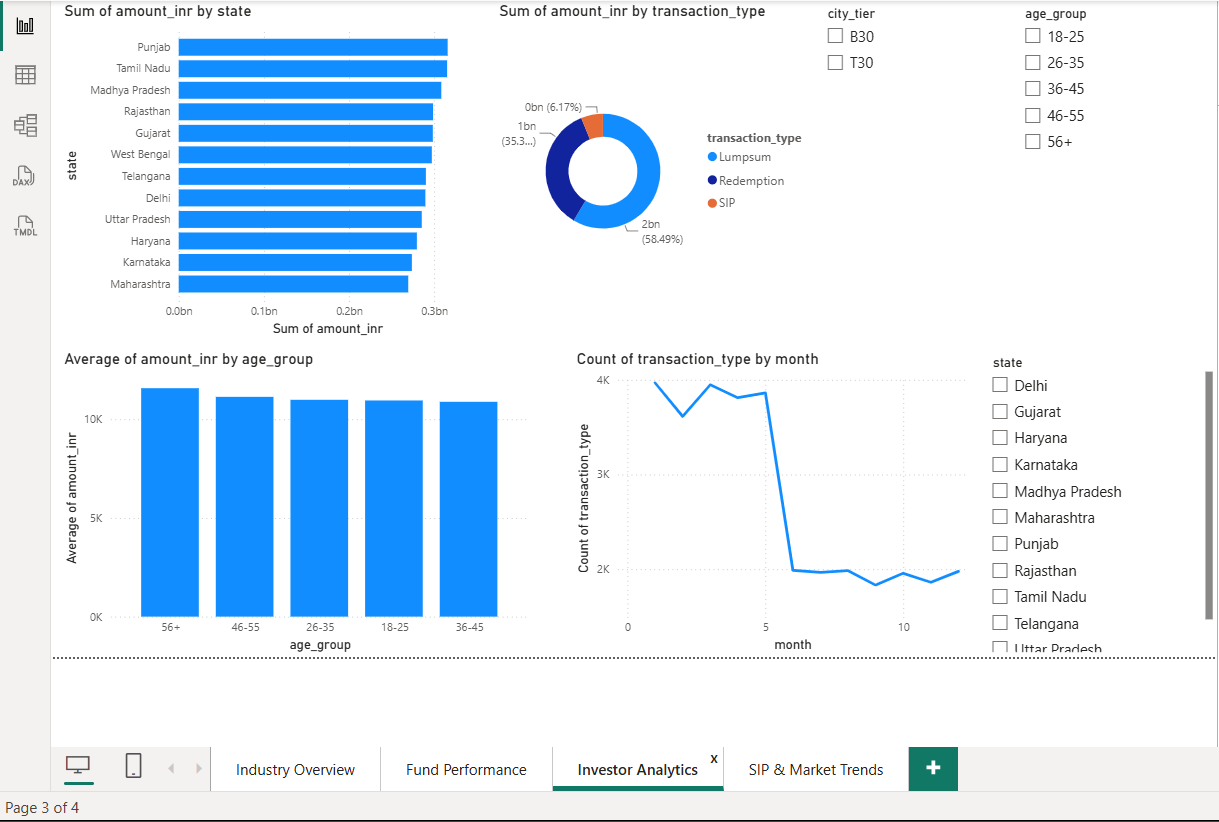

This screenshot's page, from the dashboard's own definition file:
{"tool":"powerbi","page":{"name":"Investor Analytics","canvas":[1280,720],"ordinal":2},"visuals":[{"type":"clusteredBarChart","fields":{"Category":["08_investor_transactions.state"],"Y":["Sum(08_investor_transactions.amount_inr)"]},"box":[9.7,0,478,372.7],"z":0},{"type":"donutChart","fields":{"Category":["08_investor_transactions.transaction_type"],"Y":["Sum(08_investor_transactions.amount_inr)"]},"box":[487.7,0,351.9,354.7],"z":1000},{"type":"clusteredColumnChart","fields":{"Category":["08_investor_transactions.age_group"],"Y":["Avg(08_investor_transactions.amount_inr)"]},"box":[9.7,382.6,520.7,337],"z":2000},{"type":"lineChart","fields":{"Category":["dim_date.month"],"Y":["CountNonNull(08_investor_transactions.transaction_type)"]},"box":[571.8,382.6,439.2,337],"z":3000},{"type":"slicer","fields":{"Values":["08_investor_transactions.state"]},"box":[1021,383,259,337],"z":4000},{"type":"slicer","fields":{"Values":["08_investor_transactions.age_group"]},"box":[1057.2,0,223.1,354.7],"z":5000},{"type":"slicer","fields":{"Values":["08_investor_transactions.city_tier"]},"box":[840,0,171,355],"z":6000}]}

Visuals, with their boxes on the page's 1280x720 design canvas (x1, y1, x2, y2). These are canvas units, not pixel positions in the 1219x822 screenshot, which may show the page scaled, cropped or inside an application window:
clusteredBarChart - 08_investor_transactions.state x Sum(08_investor_transactions.amount_inr): BBox(10, 0, 488, 373)
donutChart - 08_investor_transactions.transaction_type x Sum(08_investor_transactions.amount_inr): BBox(488, 0, 840, 355)
clusteredColumnChart - 08_investor_transactions.age_group x Avg(08_investor_transactions.amount_inr): BBox(10, 383, 530, 720)
lineChart - dim_date.month x CountNonNull(08_investor_transactions.transaction_type): BBox(572, 383, 1011, 720)
slicer - 08_investor_transactions.state: BBox(1021, 383, 1280, 720)
slicer - 08_investor_transactions.age_group: BBox(1057, 0, 1280, 355)
slicer - 08_investor_transactions.city_tier: BBox(840, 0, 1011, 355)
